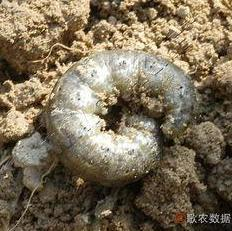caterpillars: (28, 41, 214, 201)
